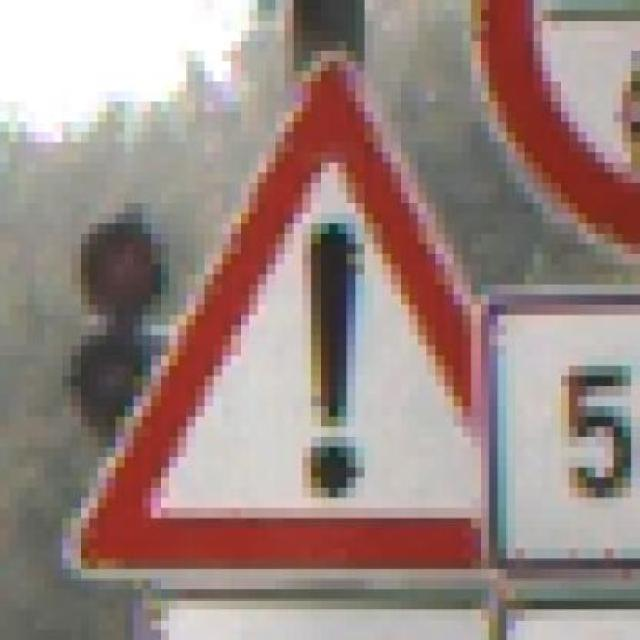Attention Please-: (9, 45, 605, 563)
